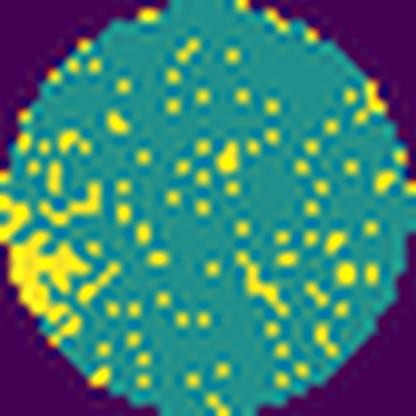Edge-Loc: (8, 226, 94, 346), (0, 191, 36, 246)
